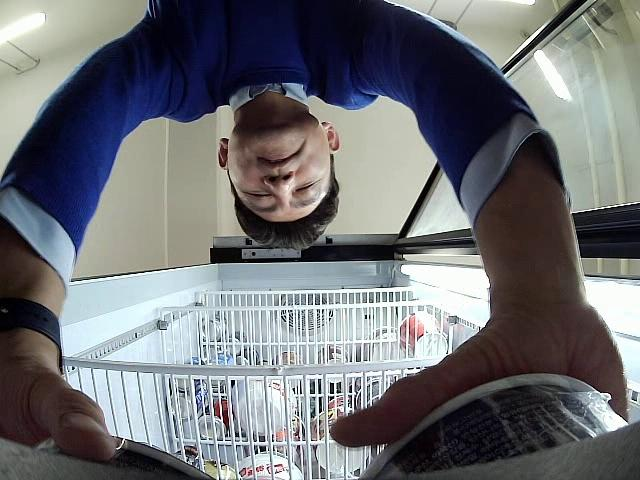00_hand: (329, 279, 628, 448), (0, 350, 117, 460)
07_buldak_L: (359, 373, 629, 480)
